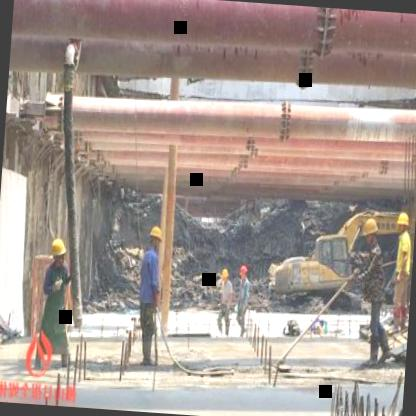helmet: (362, 215, 382, 248), (49, 237, 70, 268), (148, 222, 166, 253), (395, 211, 411, 238), (236, 264, 248, 284), (219, 266, 231, 284)
